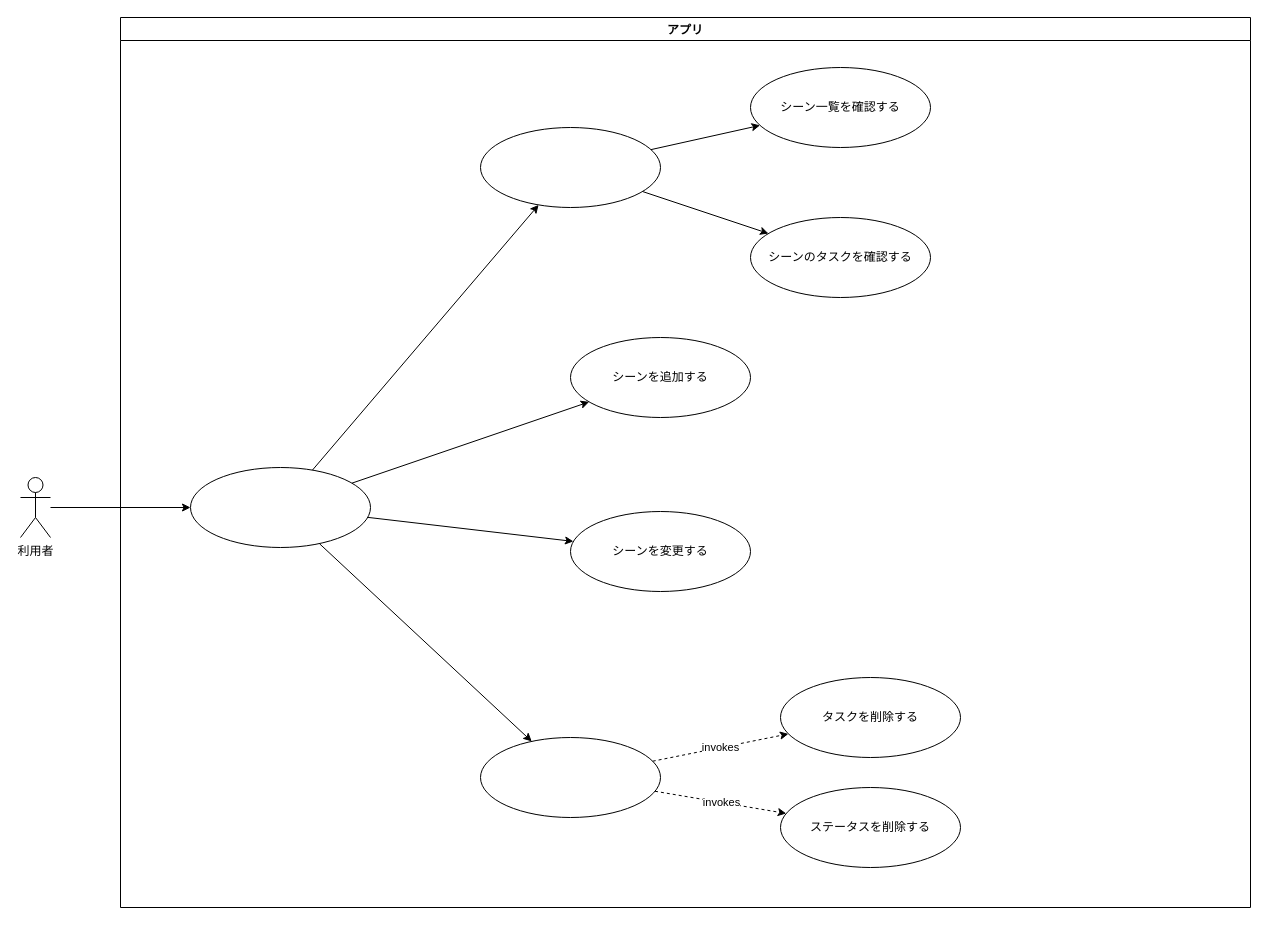
Some shapes in this 1268 by 925 pixel diagram are drawn without their labels. Here are the shapes that lost their labels. From the top down, the centre of each, then its label:
the point at 570,167: シーンを確認する
the point at 280,507: シーンを管理する
the point at 570,777: シーンを削除する
